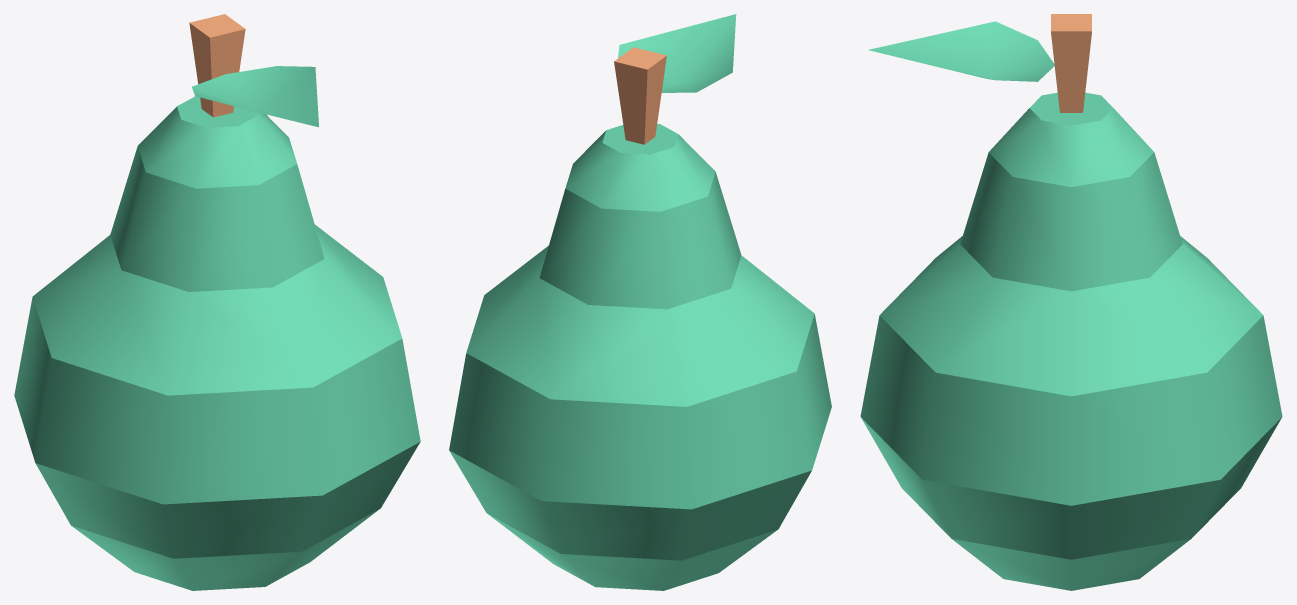
File: pear.GLB
3 renders of one model, left to right at view 1: azimuth 30°, elevation 25°; view 2: azimuth 150°, elevation 25°; view 3: azimuth 270°, elevation 25°, orthographic. The views are drawn at different scales.
Visible parts, largest first — view 1: pear; view 2: pear; view 3: pear.
Boxes of the visible parts, bbox=[...] form: pear: bbox=[14, 14, 420, 590]; pear: bbox=[449, 14, 831, 590]; pear: bbox=[860, 14, 1282, 590].
Bounding box in the file's own units: 0.1963 × 0.2708 × 0.1963.
